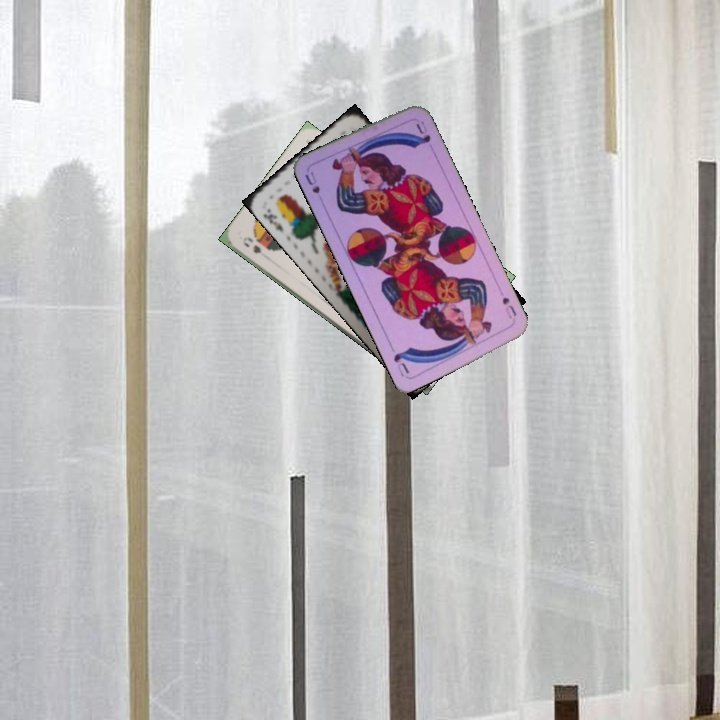EK: (260, 204, 286, 234)
SO: (238, 232, 263, 256)
SU: (301, 167, 322, 196), (498, 293, 519, 321)
